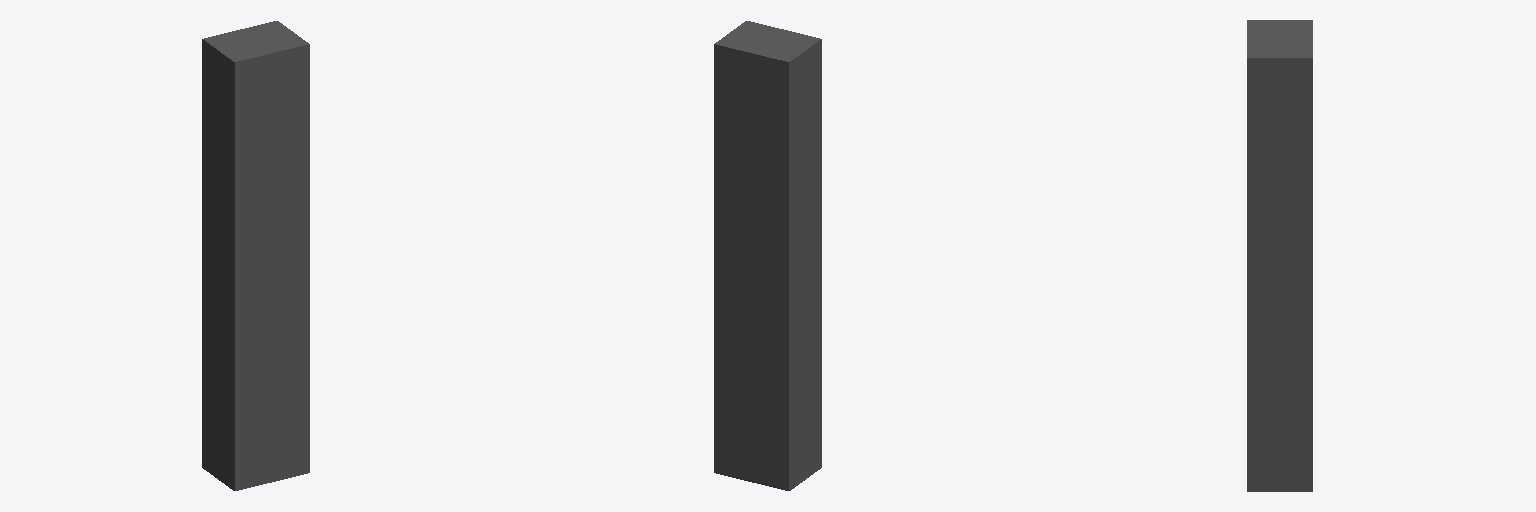
robot.urdf — robotiq_arg2f_85_model:
<?xml version="1.0" ?>
<!-- =================================================================================== -->
<!-- |    This document was autogenerated by xacro from robotiq_arg2f_85_model.xacro   | -->
<!-- |    EDITING THIS FILE BY HAND IS NOT RECOMMENDED                                 | -->
<!-- =================================================================================== -->
<robot name="robotiq_arg2f_85_model">
  <link name="robotiq_arg2f_base_link">
    <inertial>
      <origin rpy="0 0 0" xyz="8.625E-08 -4.6583E-06 0.03145"/>
      <mass value="0.22652"/>
      <inertia ixx="0.00020005" ixy="-4.2442E-10" ixz="-2.9069E-10" iyy="0.00017832" iyz="-3.4402E-08" izz="0.00013478"/>
    </inertial>
    <!-- <visual>
      <origin rpy="0 0 0" xyz="0 0 0"/>
      <geometry>
        <mesh filename="visual/robotiq_arg2f_85_base_link.dae" scale="0.001 0.001 0.001"/>
      </geometry>
      <material name="Dark">
        <color rgba="0.1 0.1 0.1 1"/>
      </material>
    </visual> -->
    <!-- <collision>
      <origin rpy="0 0 0" xyz="0 0 0"/>
      <geometry>
        <mesh filename="collision/robotiq_arg2f_base_link.stl"/>
      </geometry>
    </collision> -->
  </link>
  <link name="left_outer_knuckle">
    <inertial>
        <origin xyz="-0.000200000000003065 0.0199435877845359 0.0292245259211331" rpy="0 0 0" />
        <mass value="0.00853198276973456" />
        <inertia ixx="2.89328108496468E-06" ixy="-1.57935047237397E-19" ixz="-1.93980378593255E-19" iyy="1.86719750325683E-06" iyz="-1.21858577871576E-06" izz="1.21905238907251E-06" />
        </inertial>
    <!-- <visual>
      <origin rpy="0 0 0" xyz="0 0 0"/>
      <geometry>
        <mesh filename="visual/robotiq_arg2f_85_outer_knuckle.dae" scale="0.001 0.001 0.001"/>
      </geometry>
      <material name="Light">
        <color rgba="0.792156862745098 0.819607843137255 0.933333333333333 1"/>
      </material>
    </visual> -->
    <!-- <collision>
      <origin rpy="0 0 0" xyz="0 0 0"/>
      <geometry>
        <mesh filename="collision/robotiq_arg2f_85_outer_knuckle.dae" scale="0.001 0.001 0.001"/>
      </geometry>
    </collision> -->
  </link>
  <link name="left_outer_finger">
    <inertial>
        <origin xyz="0.00030115855001899 0.0373907951953854 -0.0208027427000385" rpy="0 0 0" />
        <mass value="0.022614240507152" />
        <inertia ixx="1.52518312458174E-05" ixy="9.76583423954399E-10" ixz="-5.43838577022588E-10" iyy="6.17694243867776E-06" iyz="6.78636130740228E-06" izz="1.16494917907219E-05" />
        </inertial>
    <!-- <visual>
      <origin rpy="0 0 0" xyz="0 0 0"/>
      <geometry>
        <mesh filename="visual/robotiq_arg2f_85_outer_finger.dae" scale="0.001 0.001 0.001"/>
      </geometry>
      <material name="Dark2">
        <color rgba="0.2 0.2 0.2 1"/>
      </material>
    </visual> -->
    <!-- <collision>
      <origin rpy="0 0 0" xyz="0 0 0"/>
      <geometry>
        <mesh filename="collision/robotiq_arg2f_85_outer_finger.dae" scale="0.001 0.001 0.001"/>
      </geometry>
    </collision> -->
  </link>
  <link name="left_inner_finger">
    <inertial>
        <origin xyz="0.000299999999999317 0.0160078233491243 -0.0136945669206257" rpy="0 0 0" />
        <mass value="0.0104003125914103" />
        <inertia ixx="2.71909453810972E-06" ixy="1.35402465472579E-21" ixz="-7.1817349065269E-22" iyy="7.69100314106116E-07" iyz="6.74715432769696E-07" izz="2.30315190420171E-06" />
        </inertial>
    <!-- <visual>
      <origin rpy="0 0 0" xyz="0 0 0"/>
      <geometry>
        <mesh filename="visual/robotiq_arg2f_85_inner_finger.dae" scale="0.001 0.001 0.001"/>
      </geometry>
      <material name="Dark3">
        <color rgba="0.3 0.3 0.3 1"/>
      </material>
    </visual> -->
    <!-- <collision>
      <origin rpy="0 0 0" xyz="0 0 0"/>
      <geometry>
        <mesh filename="collision/robotiq_arg2f_85_inner_finger.dae" scale="0.001 0.001 0.001"/>
      </geometry>
    </collision> -->
  </link>
  <link name="left_inner_finger_pad">
    <inertial>
      <origin rpy="0 0 0" xyz="0 0 0"/>
       <mass value=".1"/>
       <inertia ixx="1" ixy="0" ixz="0" iyy="1" iyz="0" izz="1"/>
    </inertial>
    <!-- <visual>
      <origin rpy="0 0 0" xyz="0 0 0"/>
      <geometry>
        <box size="0.022 0.00635 0.0375"/>
      </geometry>
      <material name="Light09">
        <color rgba="0.9 0.9 0.9 1"/>
      </material>
    </visual> -->
    <!-- <collision>
      <origin rpy="0 0 0" xyz="0 0 0"/>
      <geometry>
        <box size="0.022 0.00635 0.0375"/>
      </geometry>
    </collision> -->
  </link>
  <link name="left_inner_knuckle">
    <inertial>
        <origin xyz="0.000123011831763771 0.0507850843201817 0.00103968640075166" rpy="0 0 0" />
       <mass value="0.0271177346495152" />
        <inertia ixx="2.61910379223783E-05" ixy="-2.43616858946494E-07" ixz="-6.37789906117123E-09" iyy="2.8270243746167E-06" iyz="-5.37200748039765E-07" izz="2.83695868220296E-05" />
        </inertial>
    <!-- <visual>
      <origin rpy="0 0 0" xyz="0 0 0"/>
      <geometry>
        <mesh filename="visual/robotiq_arg2f_85_inner_knuckle.dae" scale="0.001 0.001 0.001"/>
      </geometry>
      <material name="Dark4">
        <color rgba="0.4 0.4 0.4 1"/>
      </material>
    </visual> -->
    <!-- <collision>
      <origin rpy="0 0 0" xyz="0 0 0"/>
      <geometry>
        <mesh filename="collision/robotiq_arg2f_85_inner_knuckle.dae" scale="0.001 0.001 0.001"/>
      </geometry>
    </collision> -->
  </link>
  <link name="right_outer_knuckle">
    <inertial>
        <origin xyz="-0.000200000000003065 0.0199435877845359 0.0292245259211331" rpy="0 0 0" />
        <mass value="0.00853198276973456" />
        <inertia ixx="2.89328108496468E-06" ixy="-1.57935047237397E-19" ixz="-1.93980378593255E-19" iyy="1.86719750325683E-06" iyz="-1.21858577871576E-06" izz="1.21905238907251E-06" />
        </inertial>
    <!-- <visual>
      <origin rpy="0 0 0" xyz="0 0 0"/>
      <geometry>
        <mesh filename="visual/robotiq_arg2f_85_outer_knuckle.dae" scale="0.001 0.001 0.001"/>
      </geometry>
      <material name="Light">
        <color rgba="0.792156862745098 0.819607843137255 0.933333333333333 1"/>
      </material>
    </visual> -->
    <!-- <collision>
      <origin rpy="0 0 0" xyz="0 0 0"/>
      <geometry>
        <mesh filename="collision/robotiq_arg2f_85_outer_knuckle.dae" scale="0.001 0.001 0.001"/>
      </geometry>
    </collision> -->
  </link>
  <link name="right_outer_finger">
    <inertial>
        <origin xyz="0.00030115855001899 0.0373907951953854 -0.0208027427000385" rpy="0 0 0" />
        <mass value="0.022614240507152" />
        <inertia ixx="1.52518312458174E-05" ixy="9.76583423954399E-10" ixz="-5.43838577022588E-10" iyy="6.17694243867776E-06" iyz="6.78636130740228E-06" izz="1.16494917907219E-05" />
        </inertial>
    <!-- <visual>
      <origin rpy="0 0 0" xyz="0 0 0"/>
      <geometry>
        <mesh filename="visual/robotiq_arg2f_85_outer_finger.dae" scale="0.001 0.001 0.001"/>
      </geometry>
      <material name="Dark2">
        <color rgba="0.2 0.2 0.2 1"/>
      </material>
    </visual> -->
    <!-- <collision>
      <origin rpy="0 0 0" xyz="0 0 0"/>
      <geometry>
        <mesh filename="collision/robotiq_arg2f_85_outer_finger.dae" scale="0.001 0.001 0.001"/>
      </geometry>
    </collision> -->
  </link>
  <link name="right_inner_finger">
    <inertial>
        <origin xyz="0.000299999999999317 0.0160078233491243 -0.0136945669206257" rpy="0 0 0" />
        <mass value="0.0104003125914103" />
        <inertia ixx="2.71909453810972E-06" ixy="1.35402465472579E-21" ixz="-7.1817349065269E-22" iyy="7.69100314106116E-07" iyz="6.74715432769696E-07" izz="2.30315190420171E-06" />
        </inertial>
    <!-- <visual>
      <origin rpy="0 0 0" xyz="0 0 0"/>
      <geometry>
        <mesh filename="visual/robotiq_arg2f_85_inner_finger.dae" scale="0.001 0.001 0.001"/>
      </geometry>
      <material name="Dark3">
        <color rgba="0.3 0.3 0.3 1"/>
      </material>
    </visual> -->
    <!-- <collision>
      <origin rpy="0 0 0" xyz="0 0 0"/>
      <geometry>
        <mesh filename="collision/robotiq_arg2f_85_inner_finger.dae" scale="0.001 0.001 0.001"/>
      </geometry>
    </collision> -->
  </link>
  <link name="right_inner_finger_pad">
    <inertial>
      <origin rpy="0 0 0" xyz="0 0 0"/>
       <mass value=".1"/>
       <inertia ixx="1" ixy="0" ixz="0" iyy="1" iyz="0" izz="1"/>
    </inertial>
    <!-- <visual>
      <origin rpy="0 0 0" xyz="0 0 0"/>
      <geometry>
        <box size="0.022 0.00635 0.0375"/>
      </geometry>
      <material name="Light09">
        <color rgba="0.9 0.9 0.9 1"/>
      </material>
    </visual> -->
    <!-- <collision>
      <origin rpy="0 0 0" xyz="0 0 0"/>
      <geometry>
        <box size="0.022 0.00635 0.0375"/>
      </geometry>
    </collision> -->
  </link>
  <link name="right_inner_knuckle">
    <inertial>
        <origin xyz="0.000123011831763771 0.0507850843201817 0.00103968640075166" rpy="0 0 0" />
       <mass value="0.0271177346495152" />
        <inertia ixx="2.61910379223783E-05" ixy="-2.43616858946494E-07" ixz="-6.37789906117123E-09" iyy="2.8270243746167E-06" iyz="-5.37200748039765E-07" izz="2.83695868220296E-05" />
        </inertial>
    <!-- <visual>
      <origin rpy="0 0 0" xyz="0 0 0"/>
      <geometry>
        <mesh filename="visual/robotiq_arg2f_85_inner_knuckle.dae" scale="0.001 0.001 0.001"/>
      </geometry>
      <material name="Dark4">
        <color rgba="0.4 0.4 0.4 1"/>
      </material>
    </visual> -->
    <!-- <collision>
      <origin rpy="0 0 0" xyz="0 0 0"/>
      <geometry>
        <mesh filename="collision/robotiq_arg2f_85_inner_knuckle.dae" scale="0.001 0.001 0.001"/>
      </geometry>
    </collision> -->
  </link>
  <joint name="finger_joint" type="revolute">
    <origin rpy="0 0 3.141592653589793" xyz="0 -0.0306011 0.054904"/>
    <parent link="robotiq_arg2f_base_link"/>
    <child link="left_outer_knuckle"/>
    <axis xyz="1 0 0"/>
    <limit effort="1000" lower="0" upper="0.8" velocity="2.0"/>
  </joint>
  <joint name="left_outer_finger_joint" type="fixed">
    <origin rpy="0 0 0" xyz="0 0.0315 -0.0041"/>
    <parent link="left_outer_knuckle"/>
    <child link="left_outer_finger"/>
    <axis xyz="1 0 0"/>
  </joint>
  <joint name="left_inner_knuckle_joint" type="revolute">
    <origin rpy="0 0 3.141592653589793" xyz="0 -0.0127 0.06142"/>
    <parent link="robotiq_arg2f_base_link"/>
    <child link="left_inner_knuckle"/>
    <axis xyz="1 0 0"/>
    <limit effort="1000" lower="0" upper="0.8757" velocity="2.0"/>
    <mimic joint="finger_joint" multiplier="1" offset="0"/>
  </joint>
  <joint name="left_inner_finger_joint" type="revolute">
    <origin rpy="0 0 0" xyz="0 0.0061 0.0471"/>
    <parent link="left_outer_finger"/>
    <child link="left_inner_finger"/>
    <axis xyz="1 0 0"/>
    <limit effort="1000" lower="-0.8757" upper="0" velocity="2.0"/>
    <mimic joint="finger_joint" multiplier="-1" offset="0"/>
  </joint>
  <joint name="left_inner_finger_pad_joint" type="fixed">
    <origin rpy="0 0 0" xyz="0 -0.0220203446692936 0.03242"/>
    <parent link="left_inner_finger"/>
    <child link="left_inner_finger_pad"/>
    <axis xyz="0 0 1"/>
  </joint>
  <joint name="right_outer_knuckle_joint" type="revolute">
    <origin rpy="0 0 0" xyz="0 0.0306011 0.054904"/>
    <parent link="robotiq_arg2f_base_link"/>
    <child link="right_outer_knuckle"/>
    <axis xyz="1 0 0"/>
    <limit effort="1000" lower="0" upper="0.8" velocity="2.0"/>
    <mimic joint="finger_joint" multiplier="1" offset="0"/>
  </joint>
  <joint name="right_outer_finger_joint" type="fixed">
    <origin rpy="0 0 0" xyz="0 0.0315 -0.0041"/>
    <parent link="right_outer_knuckle"/>
    <child link="right_outer_finger"/>
    <axis xyz="1 0 0"/>
  </joint>
  <joint name="right_inner_knuckle_joint" type="revolute">
    <origin rpy="0 0 0.0" xyz="0 0.0127 0.06142"/>
    <parent link="robotiq_arg2f_base_link"/>
    <child link="right_inner_knuckle"/>
    <axis xyz="1 0 0"/>
    <limit effort="1000" lower="0" upper="0.8757" velocity="2.0"/>
    <mimic joint="finger_joint" multiplier="1" offset="0"/>
  </joint>
  <joint name="right_inner_finger_joint" type="revolute">
    <origin rpy="0 0 0" xyz="0 0.0061 0.0471"/>
    <parent link="right_outer_finger"/>
    <child link="right_inner_finger"/>
    <axis xyz="1 0 0"/>
    <limit effort="1000" lower="-0.8757" upper="0" velocity="2.0"/>
    <mimic joint="finger_joint" multiplier="-1" offset="0"/>
  </joint>
  <joint name="right_inner_finger_pad_joint" type="fixed">
    <origin rpy="0 0 0" xyz="0 -0.0220203446692936 0.03242"/>
    <parent link="right_inner_finger"/>
    <child link="right_inner_finger_pad"/>
    <axis xyz="0 0 1"/>
  </joint>

  <link name="dummy_center_indicator_link">
    <visual>
      <!-- <geometry>
        <box size="0.025 0.08 0.002"/>
      </geometry>
      <geometry>
        <box size="0.025 0.125 0.002"/>
      </geometry> -->
      <origin rpy="0 0 0" xyz="0 0 -0.06"/>
      <geometry>
        <box size="0.022 0.01635 0.12"/>
      </geometry>
      <material name="Dark4">
        <color rgba="0.4 0.4 0.4 1"/>
      </material>
    </visual>
    <collision>
      <origin rpy="0 0 0" xyz="0 0 -0.06"/>
      <geometry>
        <box size="0.022 0.01635 0.12"/>
      </geometry>
    </collision>    
    <inertial>
      <mass value="0.1" />
      <inertia ixx = "0" ixy = "0" ixz = "0"
               iyx = "0" iyy = "0" iyz = "0"
               izx = "0" izy = "0" izz = "0" />
    </inertial>
  </link>
  <joint name="dummy_center_fixed_joint" type="fixed">
    <parent link="robotiq_arg2f_base_link"/>
    <child link="dummy_center_indicator_link"/>
    <origin xyz="0 0 0.15"/>
  </joint>

</robot>

--- What the picture shows (computed from the rendered views, not written in the file) ---
The picture shows the robot from 3 angles, left to right: view 1: azimuth 30°, elevation 25°; view 2: azimuth 150°, elevation 25°; view 3: azimuth 270°, elevation 25°; orthographic projection.
Robot: robotiq_arg2f_85_model — 12 links, 11 joints (6 revolute, 5 fixed); root link robotiq_arg2f_base_link; default pose: every joint at zero.
Links seen in each view (by area): view 1: dummy_center_indicator_link; view 2: dummy_center_indicator_link; view 3: dummy_center_indicator_link.
Link boxes in pixels (x1,y1,x2,y2): dummy_center_indicator_link: [202, 21, 309, 490]; dummy_center_indicator_link: [714, 21, 821, 490]; dummy_center_indicator_link: [1247, 20, 1312, 491].
Size in the robot's own frame: 0.022 by 0.0163 by 0.12 metres.
Geometry: primitives only (box / cylinder / sphere), no mesh files.